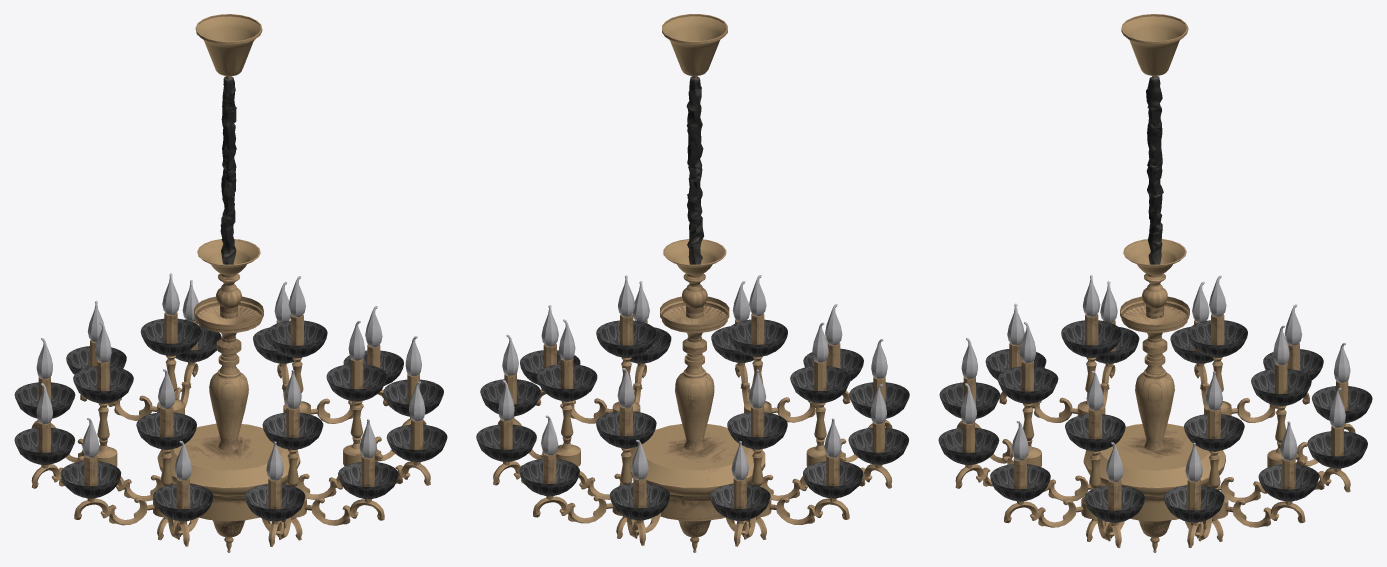
Rendered from chandelier-crystal.glb.
The picture shows the model from 3 angles, left to right: view 1: azimuth 30°, elevation 25°; view 2: azimuth 150°, elevation 25°; view 3: azimuth 270°, elevation 25°; orthographic projection.
Parts seen in each view (by area): view 1: chandelier-crystal; view 2: chandelier-crystal; view 3: chandelier-crystal.
Part boxes in pixels (left/top/right/bottom): chandelier-crystal: left=14, top=14, right=447, bottom=552; chandelier-crystal: left=476, top=14, right=909, bottom=552; chandelier-crystal: left=938, top=14, right=1372, bottom=552.
Bounding box in the file's own units: 0.7855 × 1.04 × 0.7804.
Materials: 2 (2 with a texture image).
